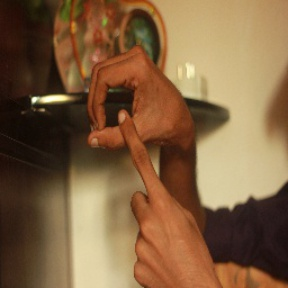Q: (81, 43, 190, 223)
